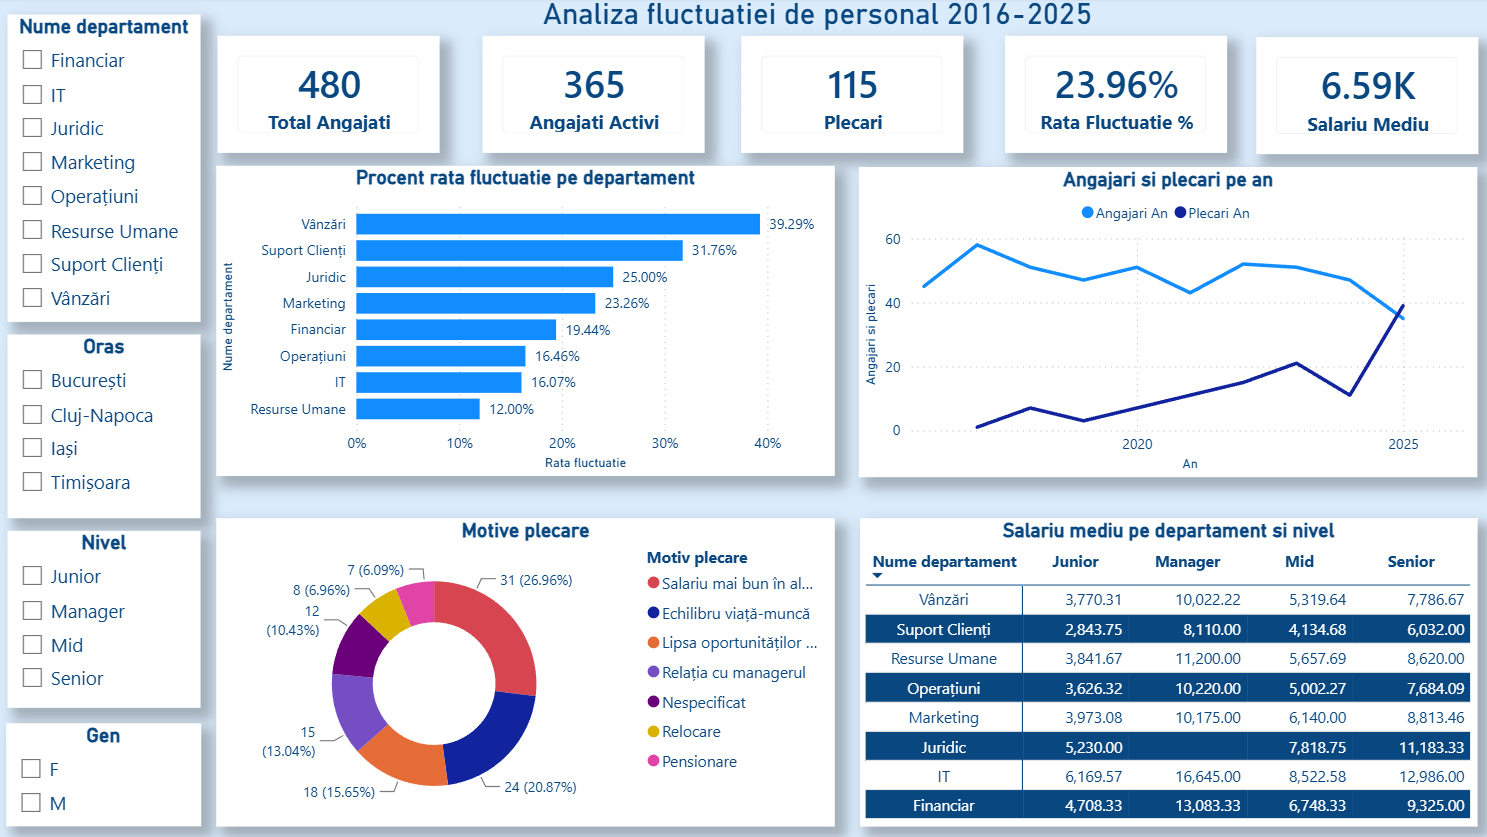

This screenshot's page, from the dashboard's own definition file:
{"tool":"powerbi","page":{"name":"Analiza personal","canvas":[1280,720],"ordinal":0},"visuals":[{"type":"slicer","title":"Nume departament","fields":{"Values":["departamente.nume_departament"]},"box":[11,15.1,164.7,262.1],"z":0},{"type":"cardVisual","fields":{"Data":["masuri.Total Angajati"]},"box":[189.8,33.1,189.4,100.2],"z":0,"group":"g1"},{"type":"cardVisual","fields":{"Data":["masuri.Angajati Activi"]},"box":[416.2,33.1,189.4,100.2],"z":1000,"group":"g1"},{"type":"slicer","title":"Oras","fields":{"Values":["angajati_curat.oras"]},"box":[11,288.2,164.7,156.4],"z":1000},{"type":"cardVisual","fields":{"Data":["masuri.Plecari"]},"box":[637.1,33.1,189.4,100.2],"z":2000,"group":"g1"},{"type":"slicer","title":"Nivel","fields":{"Values":["angajati_curat.nivel"]},"box":[11,455.6,164.7,150.9],"z":2000},{"type":"cardVisual","fields":{"Data":["masuri.Rata Fluctuatie %"]},"box":[862.2,33.1,189.4,100.2],"z":3000,"group":"g1"},{"type":"slicer","title":"Gen","fields":{"Values":["angajati_curat.gen"]},"box":[9.6,620.2,166,87.8],"z":3000},{"type":"group","id":"g1","title":"Group 1","box":[189.8,33.1,1075.2,101.9],"z":4000},{"type":"cardVisual","fields":{"Data":["masuri.Salariu Mediu"]},"box":[1076.3,34.5,189.4,100.2],"z":4000,"group":"g1"},{"type":"barChart","title":"Procent rata fluctuatie pe departament","fields":{"Category":["departamente.nume_departament"],"Y":["masuri.Rata Fluctuatie %"]},"box":[189.4,144.1,528.3,264.8],"z":5000},{"type":"lineChart","title":"Angajari si plecari pe an","fields":{"Y":["Ani.Angajari An","Ani.Plecari An"],"Category":["ani.Value"]},"box":[736.9,145.5,528.3,264.8],"z":6000},{"type":"donutChart","title":"Motive plecare","fields":{"Category":["angajati_curat.motiv_plecare"],"Y":["masuri.Plecari"]},"box":[189.4,444.6,528.3,263.5],"z":7000},{"type":"pivotTable","title":"Salariu mediu pe departament si nivel","fields":{"Values":["masuri.Salariu Mediu"],"Columns":["angajati_curat.nivel"],"Rows":["departamente.nume_departament"]},"box":[738.3,444.6,526.9,263.5],"z":8000},{"type":"textbox","title":"Analiza fluctuatiei de personal 2016-2025","box":[402.5,0,600,33.1],"z":9000}]}

Visuals, with their boxes in screenshot pixels (x1, y1, x2, y2), scaled from the page's 1280x720 canvas onto the 1487x837 screenshot:
"Nume departament" slicer: box(13, 18, 204, 322)
cardVisual - masuri.Total Angajati: box(220, 38, 441, 155)
cardVisual - masuri.Angajati Activi: box(484, 38, 704, 155)
"Oras" slicer: box(13, 335, 204, 517)
cardVisual - masuri.Plecari: box(740, 38, 960, 155)
"Nivel" slicer: box(13, 530, 204, 705)
cardVisual - masuri.Rata Fluctuatie %: box(1002, 38, 1222, 155)
"Gen" slicer: box(11, 721, 204, 823)
"Group 1" group: box(220, 38, 1470, 157)
cardVisual - masuri.Salariu Mediu: box(1250, 40, 1470, 157)
"Procent rata fluctuatie pe departament" barChart: box(220, 168, 834, 475)
"Angajari si plecari pe an" lineChart: box(856, 169, 1470, 477)
"Motive plecare" donutChart: box(220, 517, 834, 823)
"Salariu mediu pe departament si nivel" pivotTable: box(858, 517, 1470, 823)
"Analiza fluctuatiei de personal 2016-2025" textbox: box(468, 0, 1165, 38)
